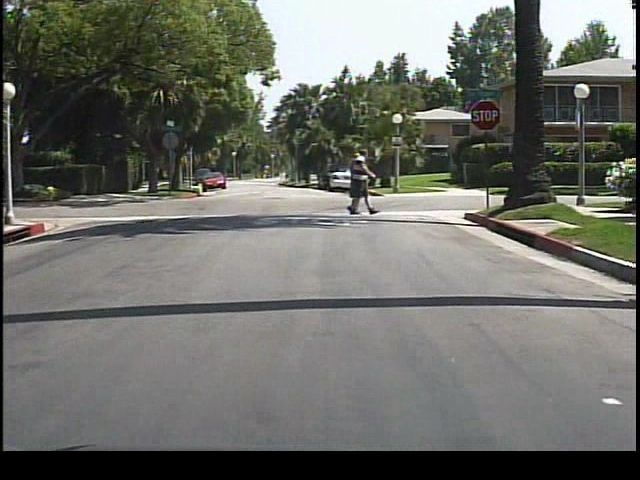person: (339, 148, 375, 219)
